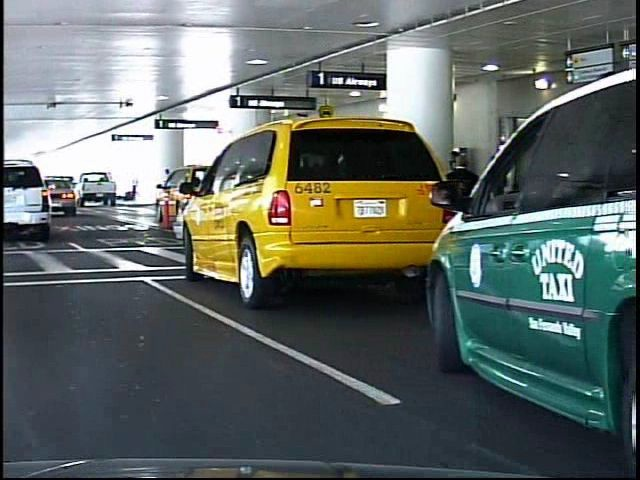person: (438, 149, 474, 278)
